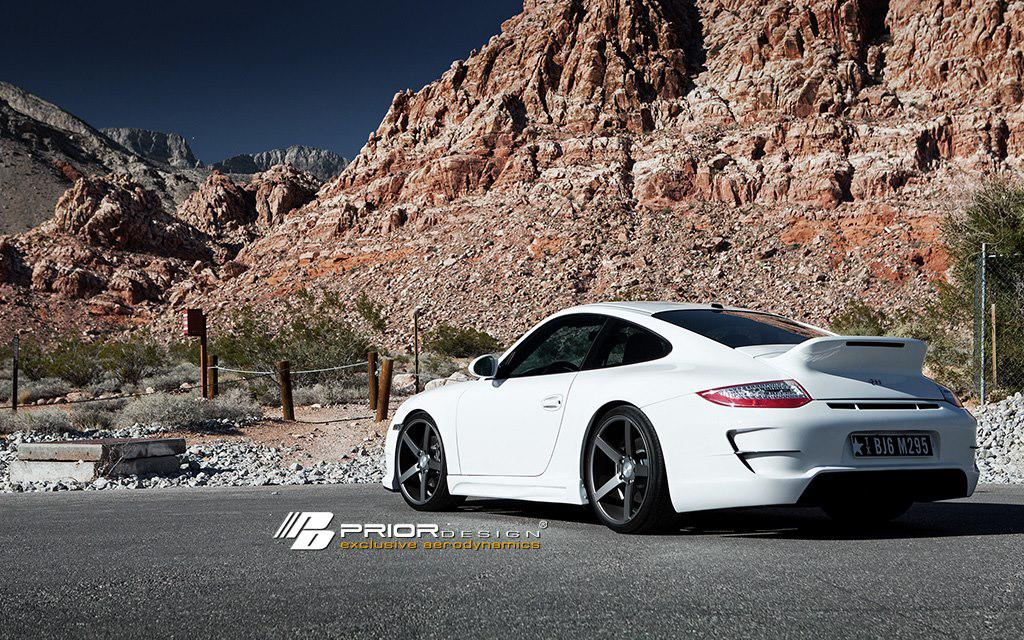Car: (362, 298, 963, 532)
